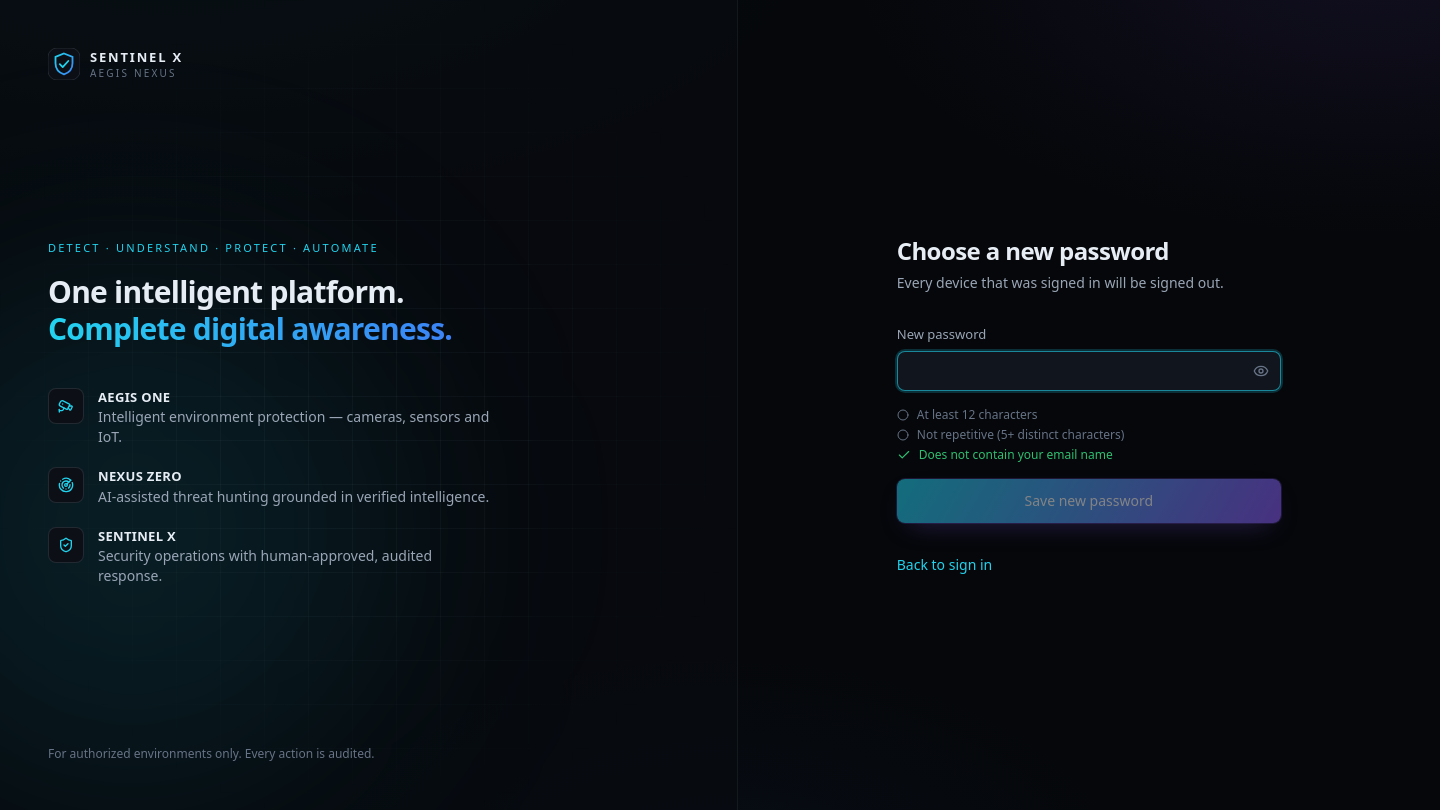
Test: account pages › reset password reads the token from the link fragment
This screenshot has width=1440, height=810.
Type "Another-Strong-Passphrase-77" into the password field labelled "New password".
click(1089, 371); type("Another-Strong-Passphrase-77")  # box x1=897 y1=351 x2=1281 y2=391
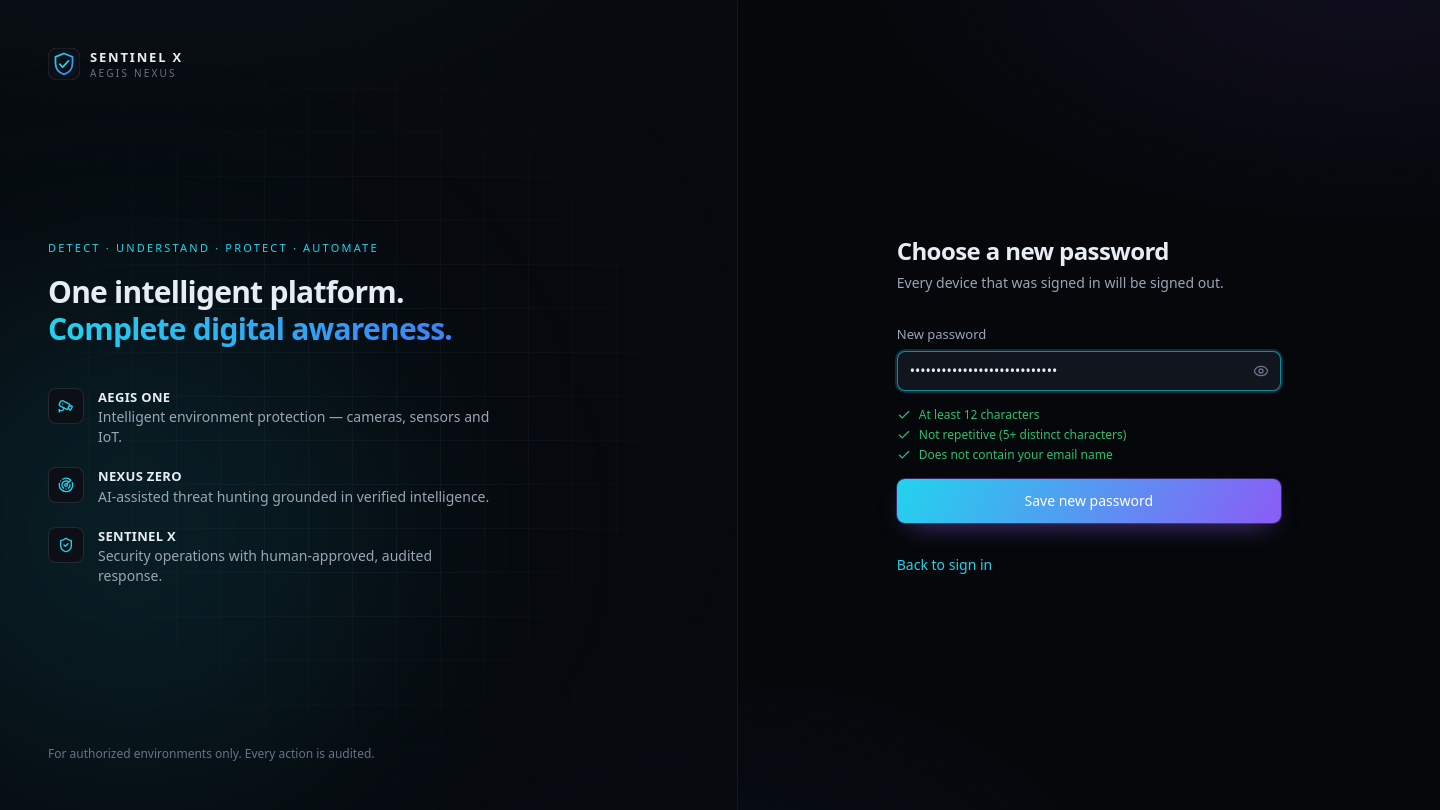
Click the button "Save new password".
click(1089, 501)  # box x1=897 y1=479 x2=1281 y2=523
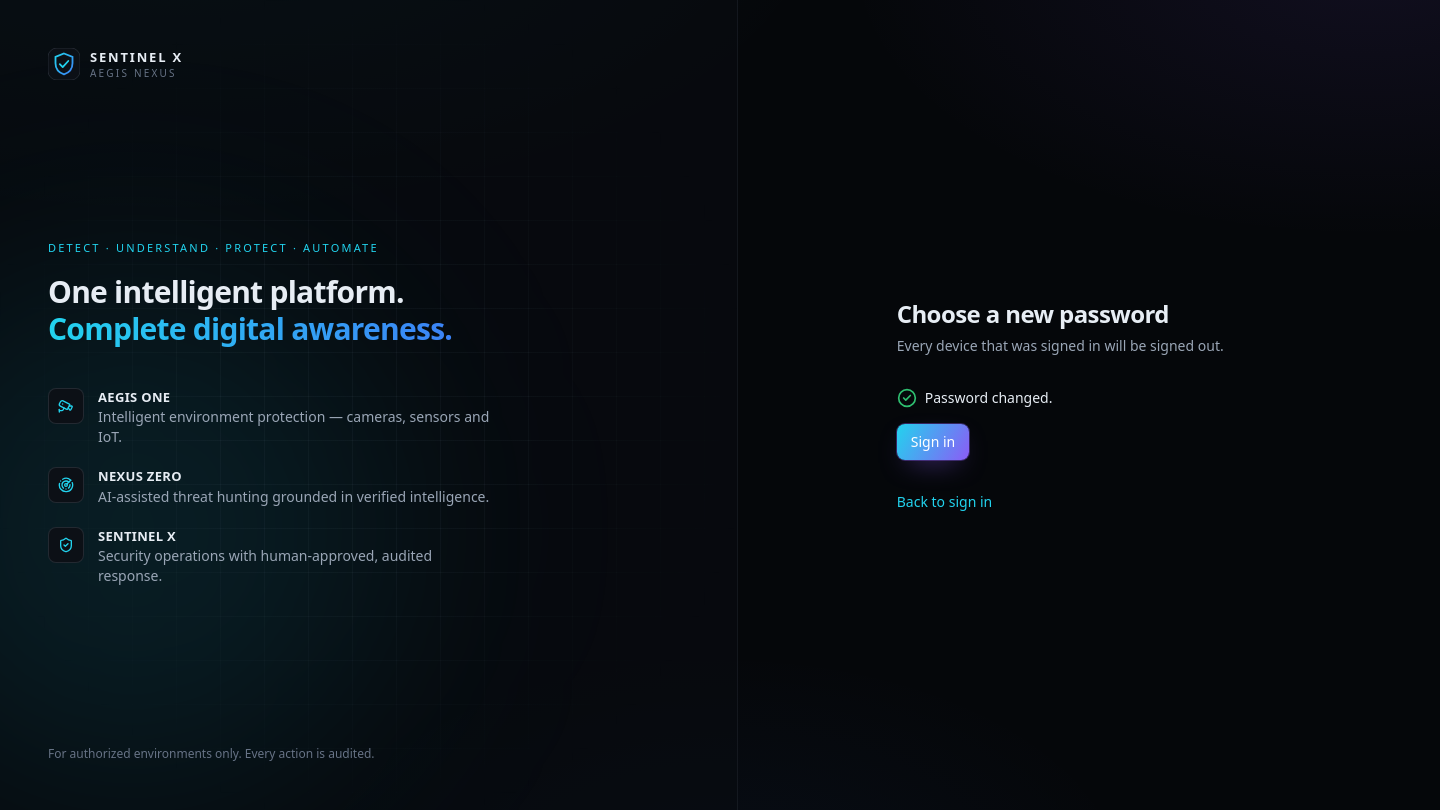
Now the text "Password changed." is shown, box x1=897 y1=388 x2=1052 y2=408
